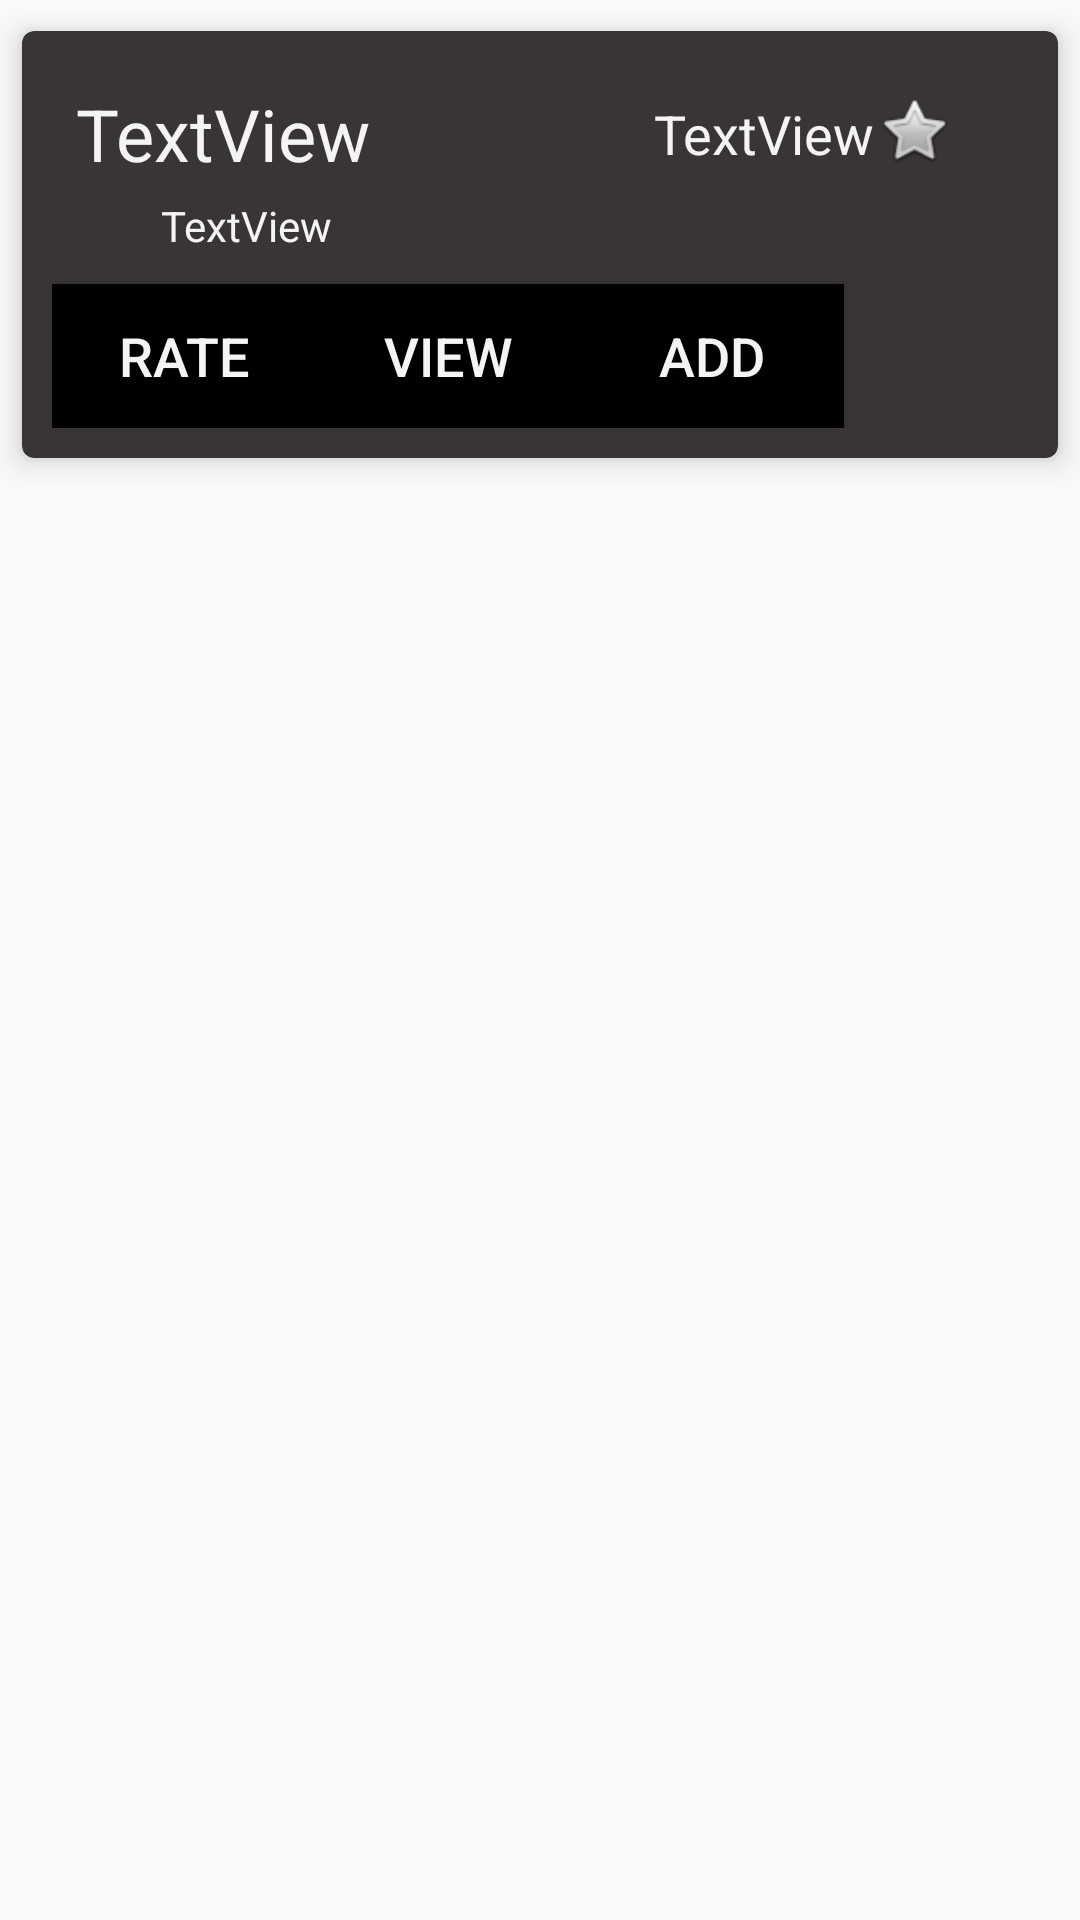

Screen size 1080 x 1920. Icon name, then its center in pixels as [x,y]:
star: [915,129]
